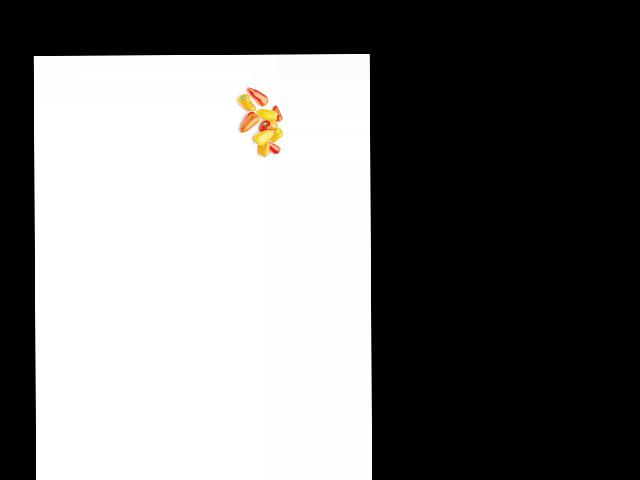bell_pepper: (273, 103, 283, 123)
